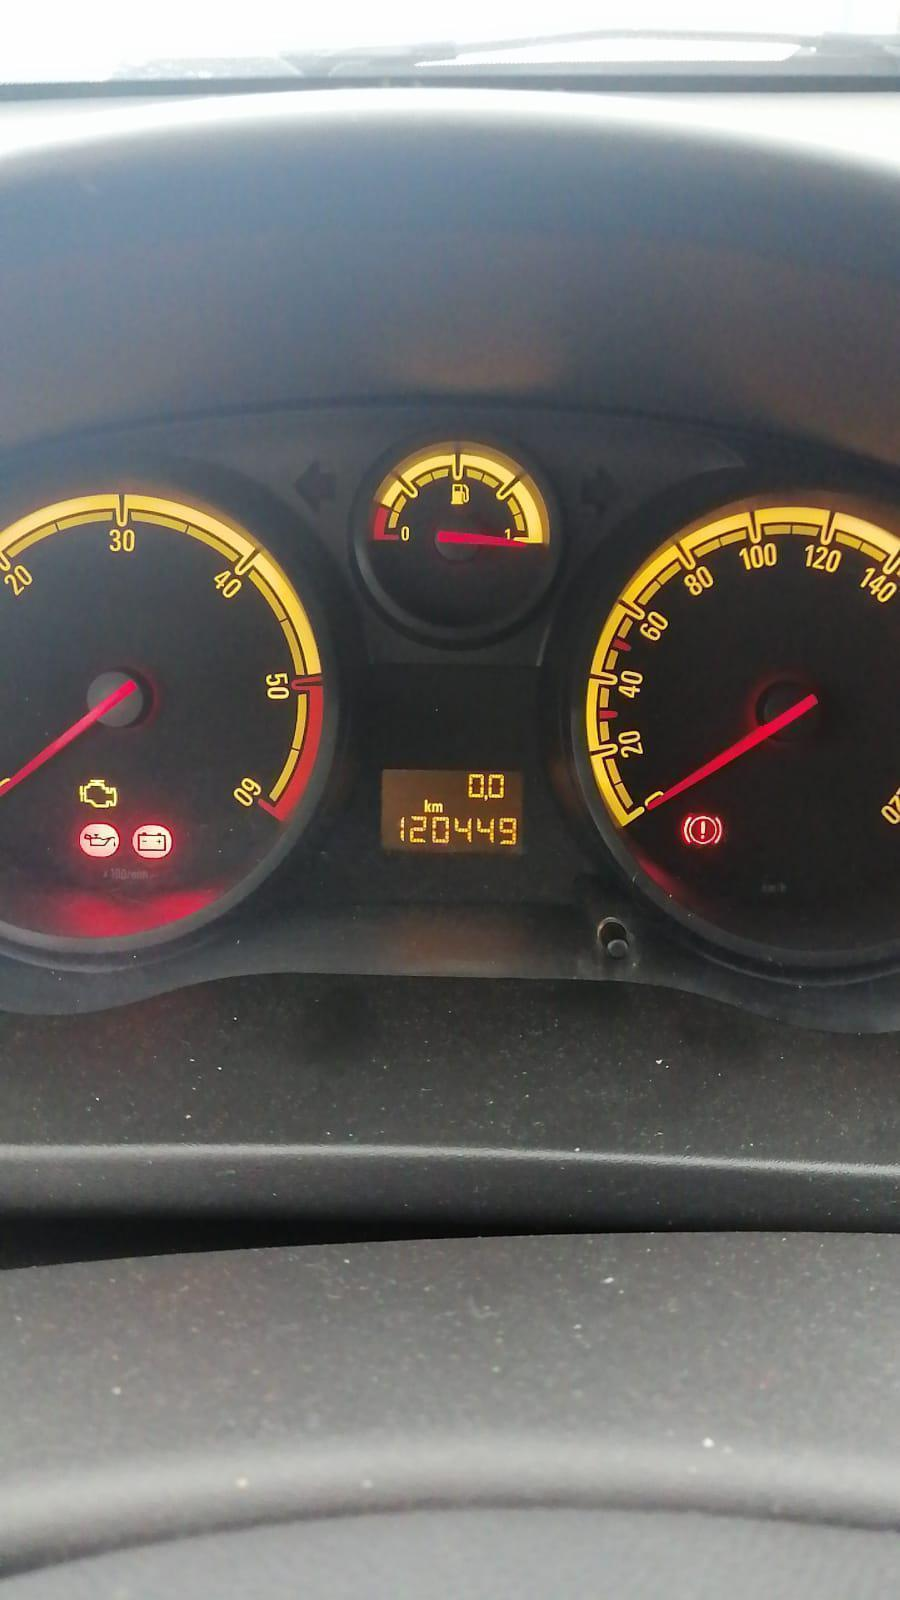,: (484, 795, 488, 802)
0: (430, 816, 449, 844), (487, 773, 504, 798), (467, 773, 484, 798)
1: (399, 816, 405, 842)
2: (408, 815, 427, 843)
4: (453, 816, 473, 843), (476, 816, 495, 844)
9: (498, 816, 516, 845)
X: (431, 802, 443, 813), (423, 798, 431, 813)
odometer: (378, 767, 526, 857)
